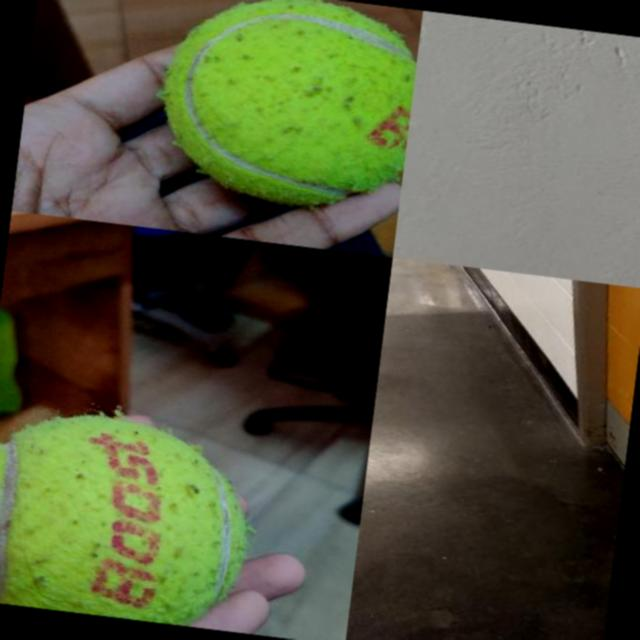tennis-ball: (146, 0, 420, 219), (0, 402, 258, 631)
